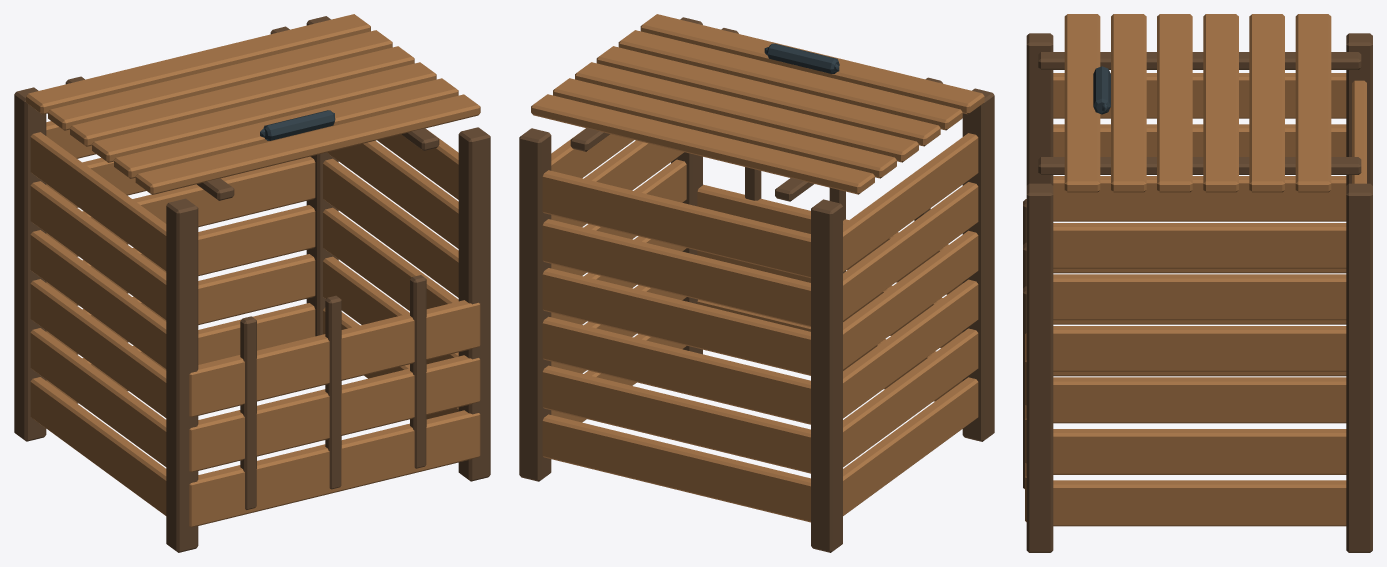
Rendered from b11_cedar_compost_bin.glb.
The picture shows the model from 3 angles, left to right: view 1: azimuth 30°, elevation 25°; view 2: azimuth 150°, elevation 25°; view 3: azimuth 270°, elevation 25°; orthographic projection. The views are drawn at different scales.
Parts seen in each view (by area): view 1: b11_cedar_compost_bin; view 2: b11_cedar_compost_bin; view 3: b11_cedar_compost_bin.
Boxes of the visible parts, x1,y1,x2,y2 form: b11_cedar_compost_bin: (14,14,490,552); b11_cedar_compost_bin: (519,14,994,552); b11_cedar_compost_bin: (1023,14,1372,552).
Bounding box in the file's own units: 1.13 × 1.22 × 0.985.
